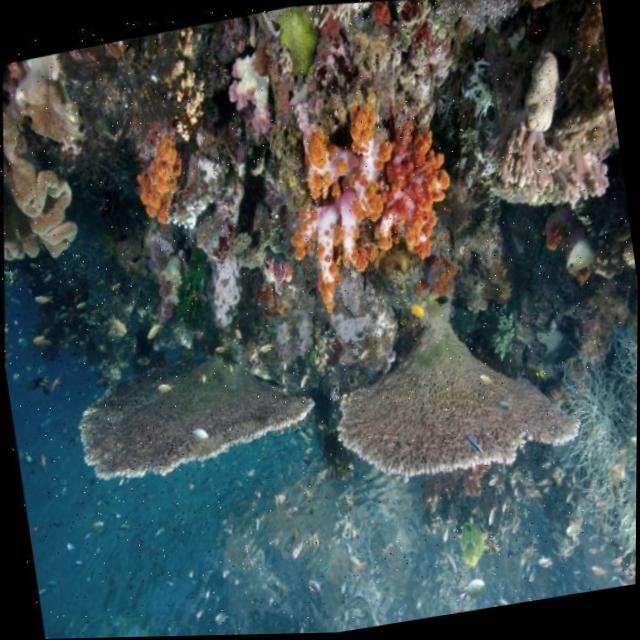Healthy Coral: (46, 288, 345, 533), (311, 289, 595, 510), (262, 75, 488, 325), (0, 52, 109, 268), (471, 104, 627, 240)
